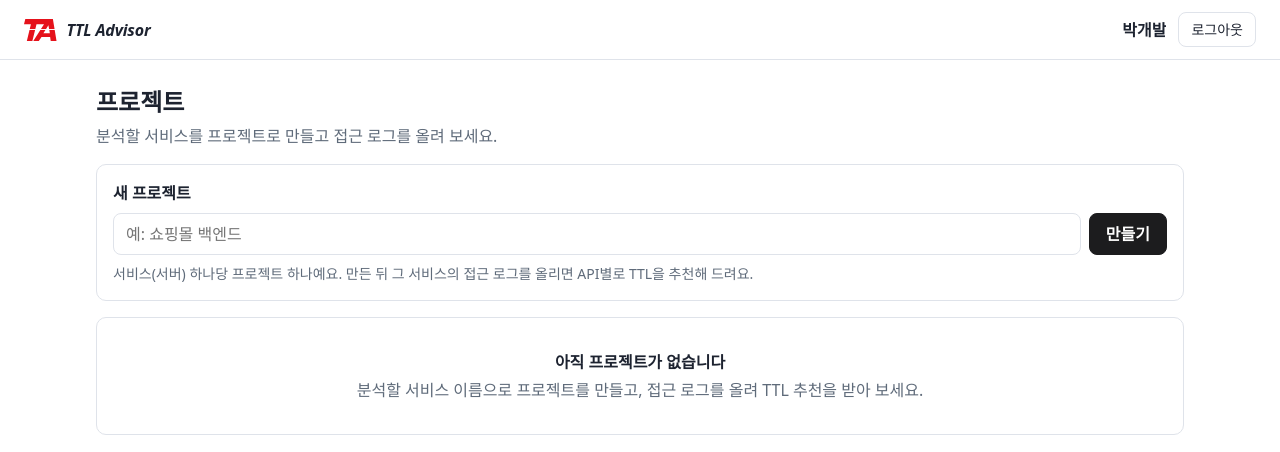
로그아웃 실패와 CSRF › 로그아웃 요청이 서버 오류로 실패하면 로그인 상태를 유지하고 실패를 알린다
The width and height of the screenshot is (1280, 452).
Click the button "로그아웃" at (1217, 30), box [1178, 12, 1256, 47]
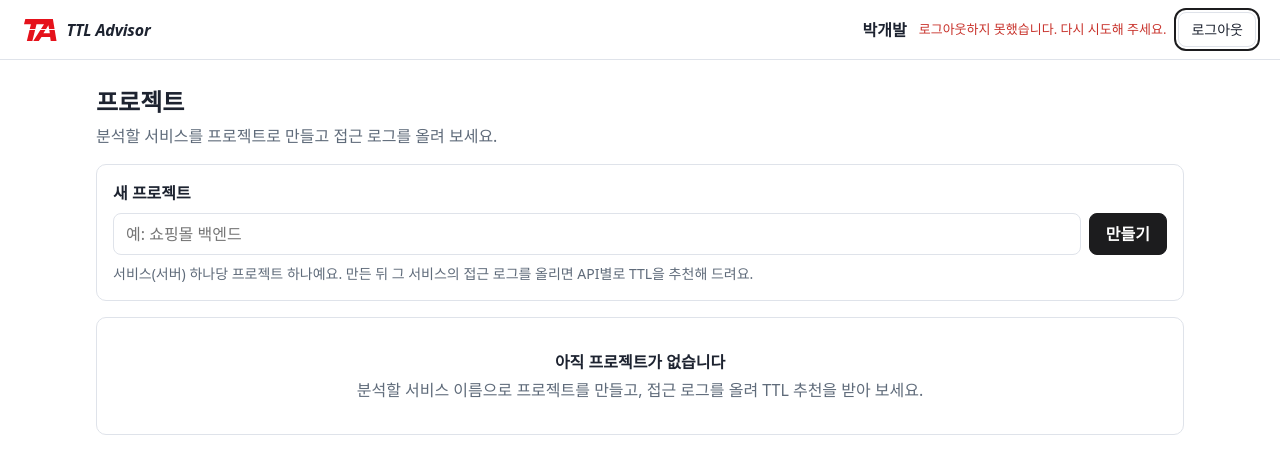
Check: the text "박개발" is shown, box [863, 18, 907, 42]
Check: the message shows "로그아웃하지 못했습니다", box [919, 20, 1166, 38]
